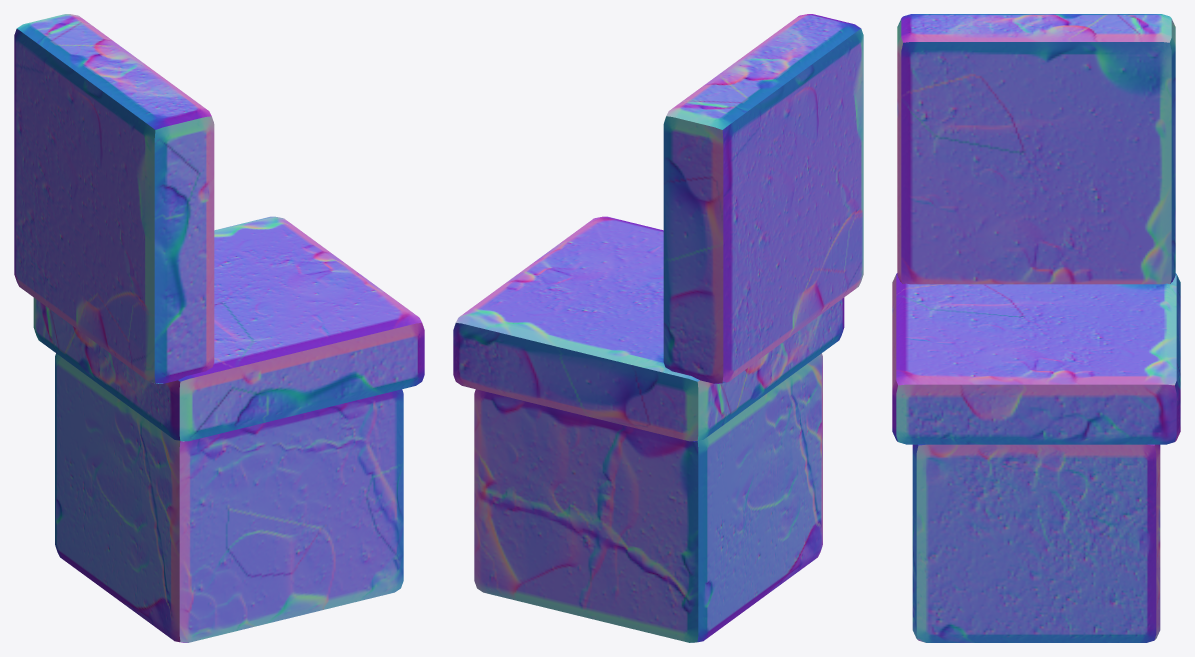
File: Props_StoneChair.fbx
The picture shows the model from 3 angles, left to right: view 1: azimuth 30°, elevation 25°; view 2: azimuth 150°, elevation 25°; view 3: azimuth 270°, elevation 25°; orthographic projection. The views are drawn at different scales.
Visible parts, largest first — view 1: CDTMesh_StoneChairHP; view 2: CDTMesh_StoneChairHP; view 3: CDTMesh_StoneChairHP.
Boxes of the visible parts, x1,y1,x2,y2 form: CDTMesh_StoneChairHP: [14, 14, 424, 642]; CDTMesh_StoneChairHP: [453, 14, 863, 642]; CDTMesh_StoneChairHP: [892, 14, 1180, 642].
Size of what is drawn, in the model's own units: 0.883 by 1.65 by 0.8359.
